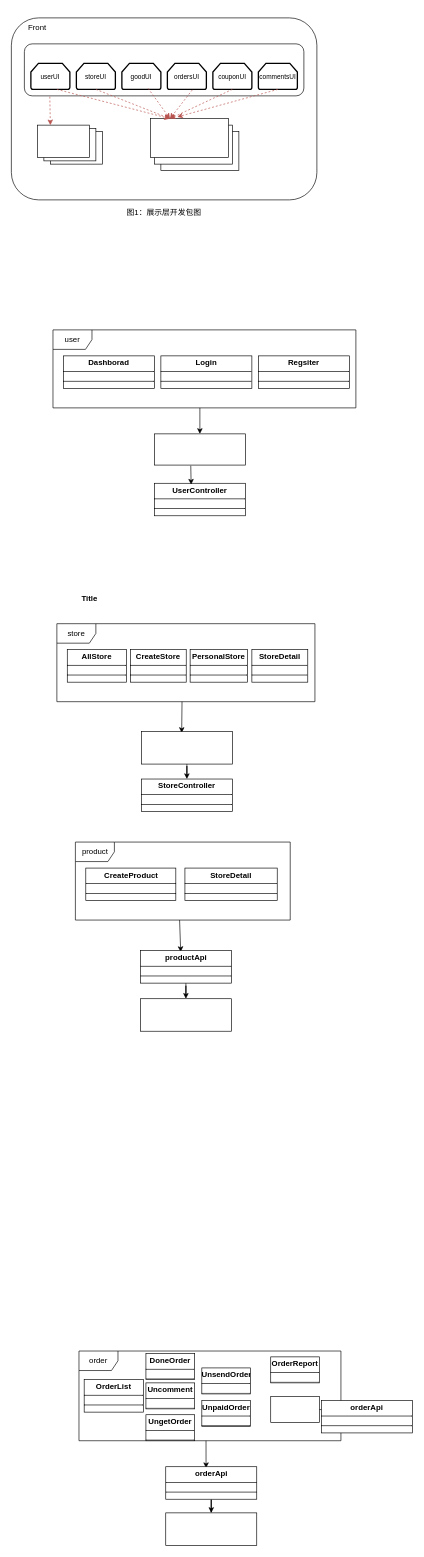
Some shapes in this 424 by 1557 pixel diagram are drawn without their labels. Each missing label, with the centre of its shape:
GoodController: the point at 185,1014
ordersController: the point at 211,1528
pay: the point at 294,1409
RESTAPI: the point at 189,138
storeApi: the point at 186,747
userApi: the point at 199,449
VO: the point at 63,141
